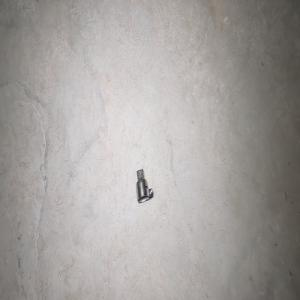MetalPart: (135, 168, 153, 202)
